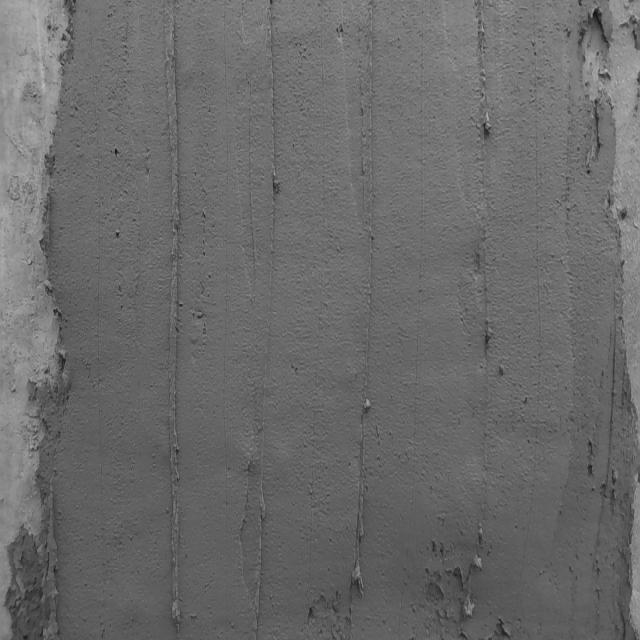trowels marks: (348, 0, 383, 640), (161, 13, 191, 630), (262, 0, 280, 546), (40, 486, 65, 640), (476, 2, 491, 157)
